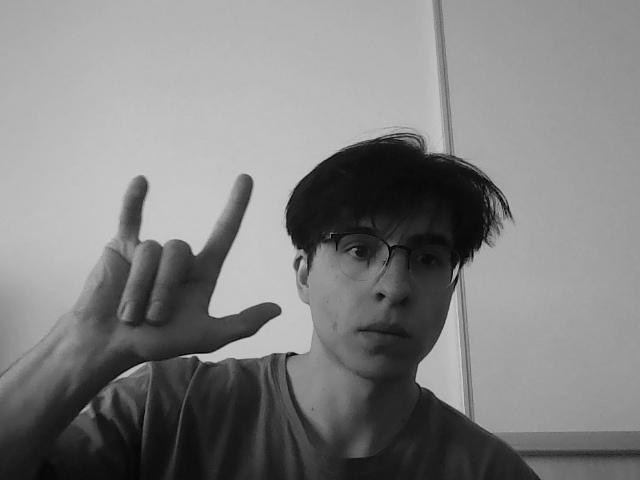I_Love_You: (82, 170, 272, 368)
